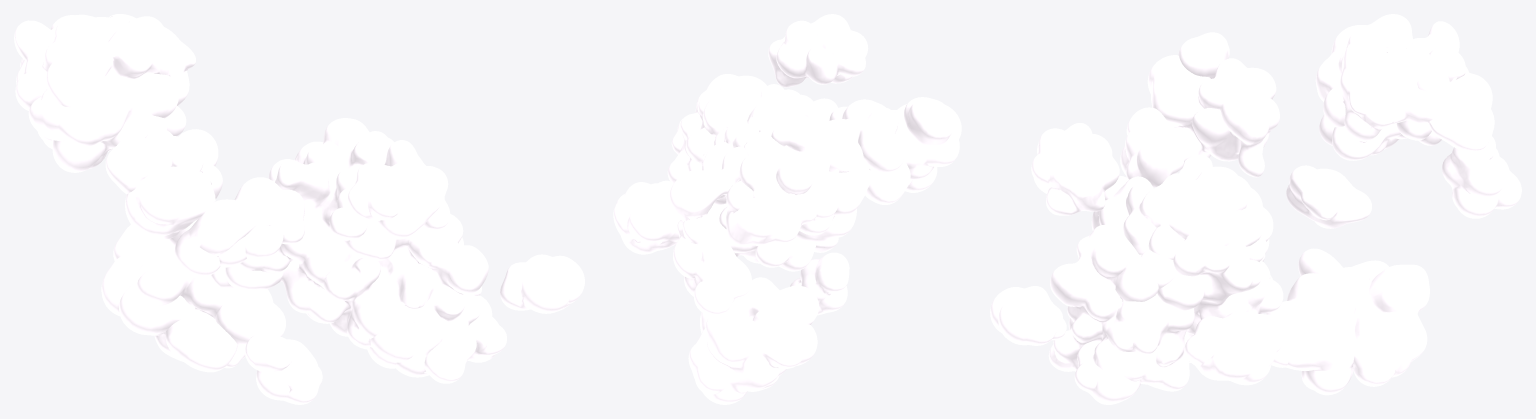
File: stylized_clouds.glb
3 renders of one model, left to right at view 1: azimuth 30°, elevation 25°; view 2: azimuth 150°, elevation 25°; view 3: azimuth 270°, elevation 25°, orthographic. The views are drawn at different scales.
Visible parts, largest first — view 1: base1; view 2: base1; view 3: base1.
Boxes of the visible parts, x1,y1,x2,y2 form: base1: (14, 14, 584, 404); base1: (613, 14, 961, 404); base1: (990, 14, 1521, 404).
Size of the model in its own units: 15.4 by 13.69 by 20.29.
1 material, 1 textured.
